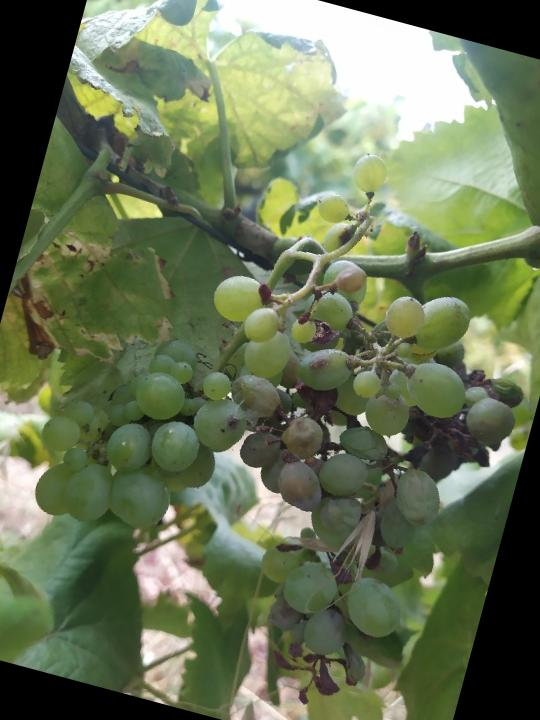grape: (114, 226, 540, 720)
